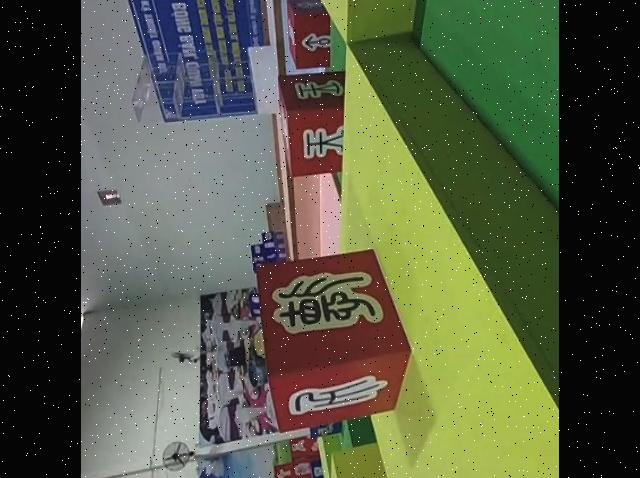R2 Fake: (253, 248, 412, 434)
R2 Real: (271, 66, 361, 181), (283, 0, 349, 68)
